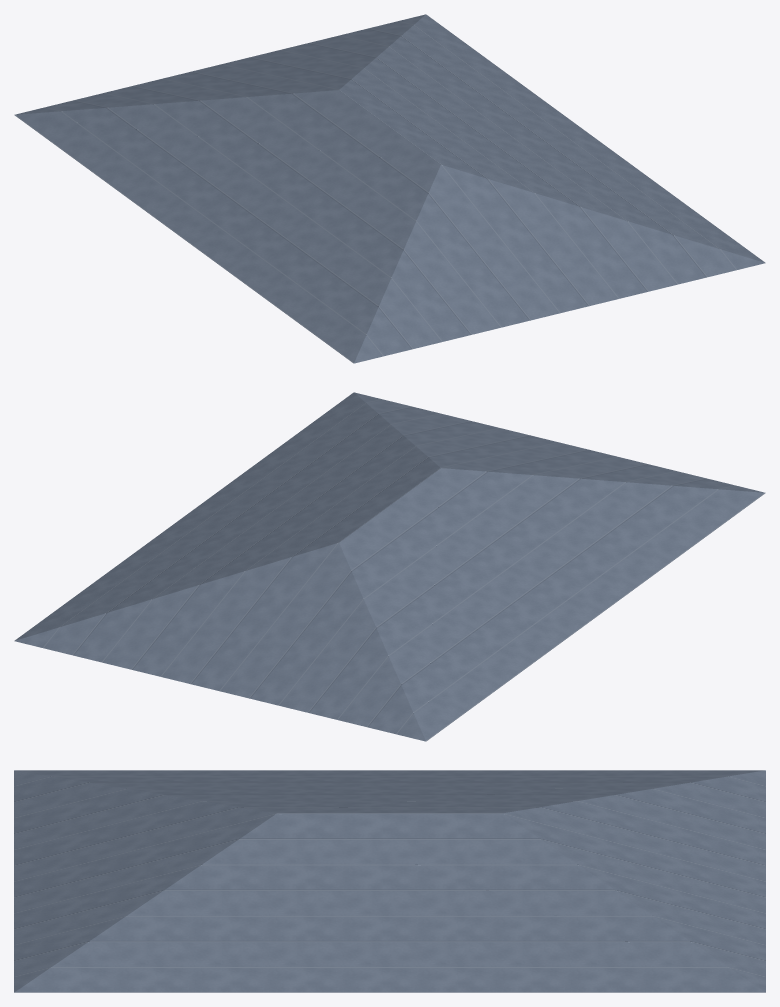
Rendered from roof_cap_b.glb.
The picture shows the model from 3 angles, top to bottom: view 1: azimuth 30°, elevation 25°; view 2: azimuth 150°, elevation 25°; view 3: azimuth 270°, elevation 25°; orthographic projection. The views are drawn at different scales.
Visible parts, largest first — view 1: roof_cap_b_zinc; view 2: roof_cap_b_zinc; view 3: roof_cap_b_zinc.
Boxes of the visible parts, bbox=[...] form: roof_cap_b_zinc: bbox=[14, 14, 765, 363]; roof_cap_b_zinc: bbox=[14, 392, 765, 741]; roof_cap_b_zinc: bbox=[14, 770, 765, 992].
Bounding box in the file's own units: 7 × 1 × 10.
1 material, 1 textured.
